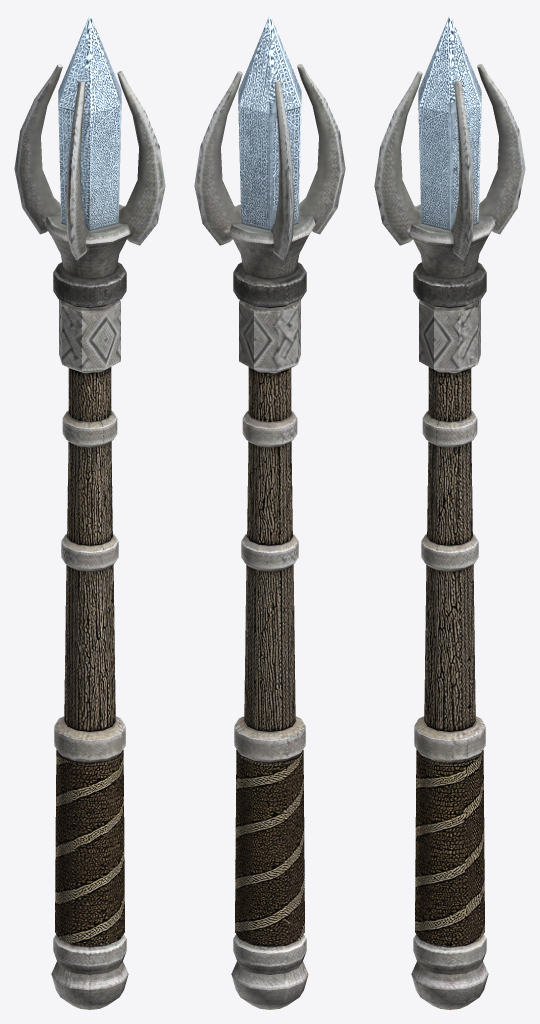
Rendered from w_wand_t1.glb.
3 views of the same model, side by side, from view 1: azimuth 30°, elevation 25°; view 2: azimuth 150°, elevation 25°; view 3: azimuth 330°, elevation 25° (orthographic).
Visible parts, largest first — view 1: w_wand; view 2: w_wand; view 3: w_wand.
Part boxes in pixels (box(x1,y1,x2,y2)): w_wand: box(14, 14, 165, 1009); w_wand: box(194, 14, 345, 1009); w_wand: box(374, 14, 525, 1009).
Bounding box in the file's own units: 3.09 × 30.6 × 3.09.
1 material, 1 textured.
